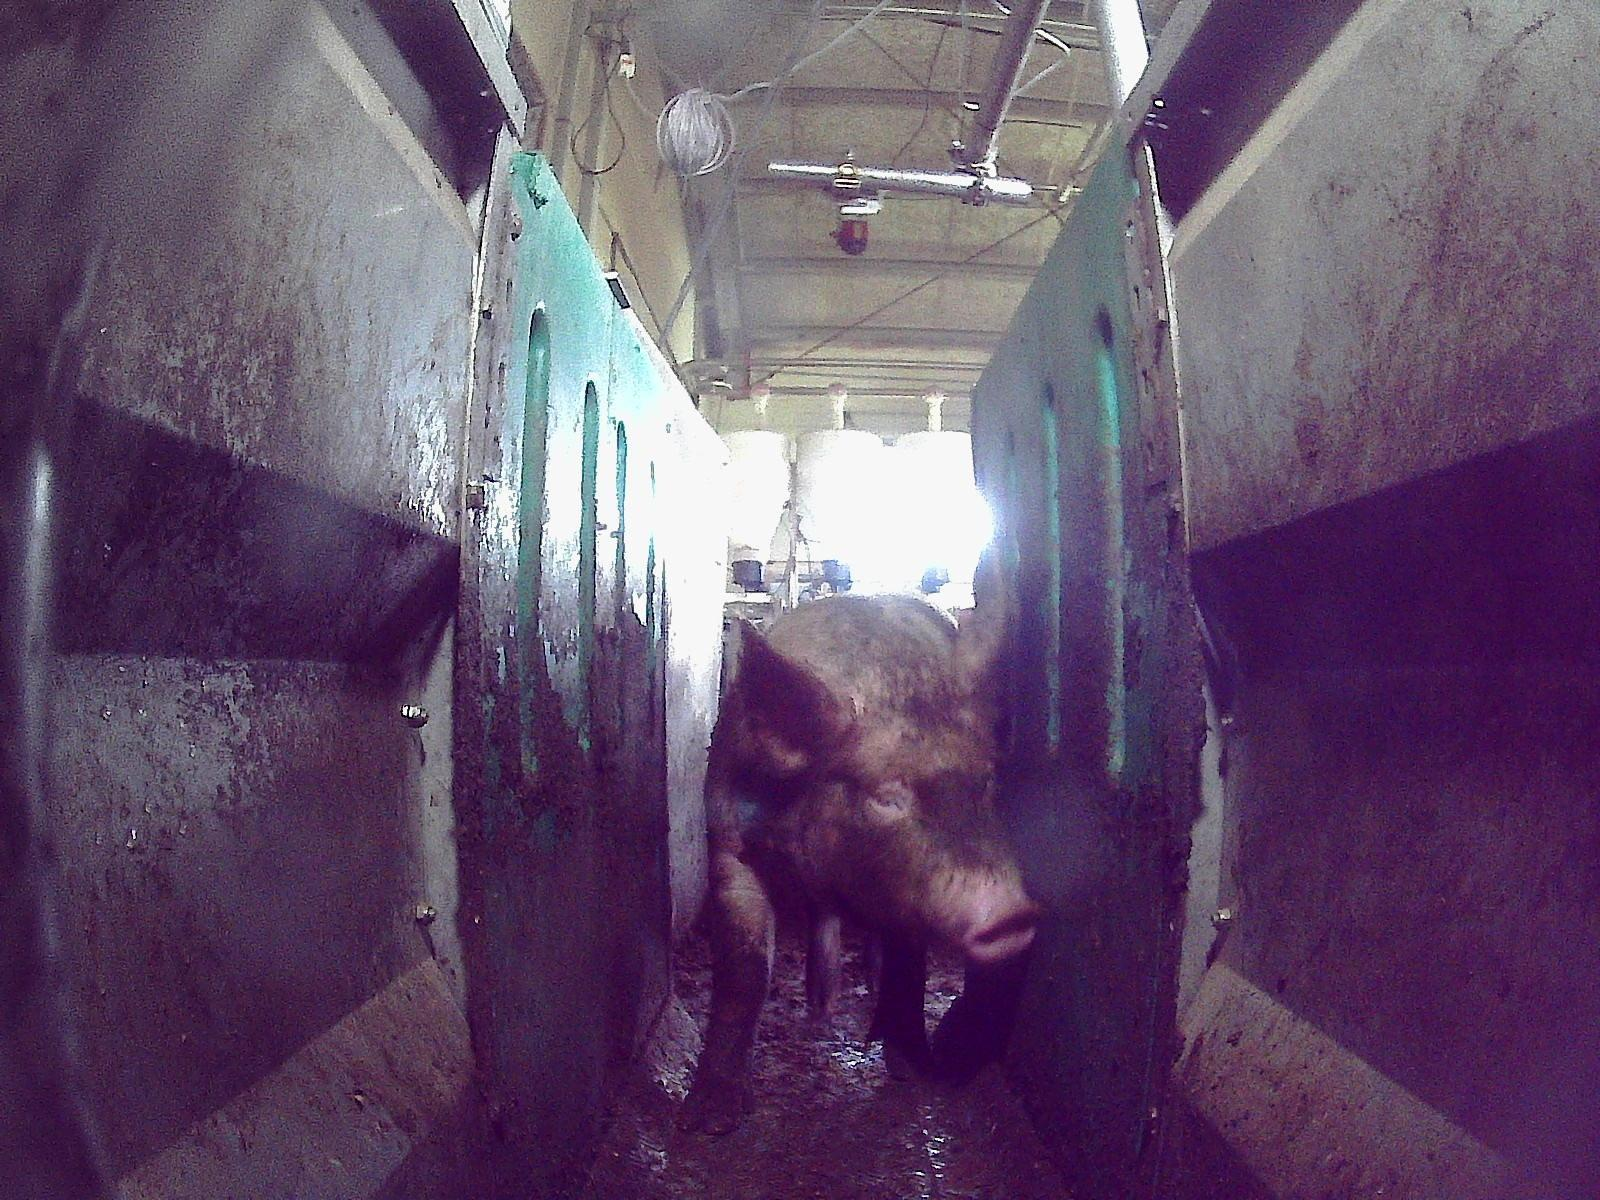Face: (797, 655, 1042, 964)
